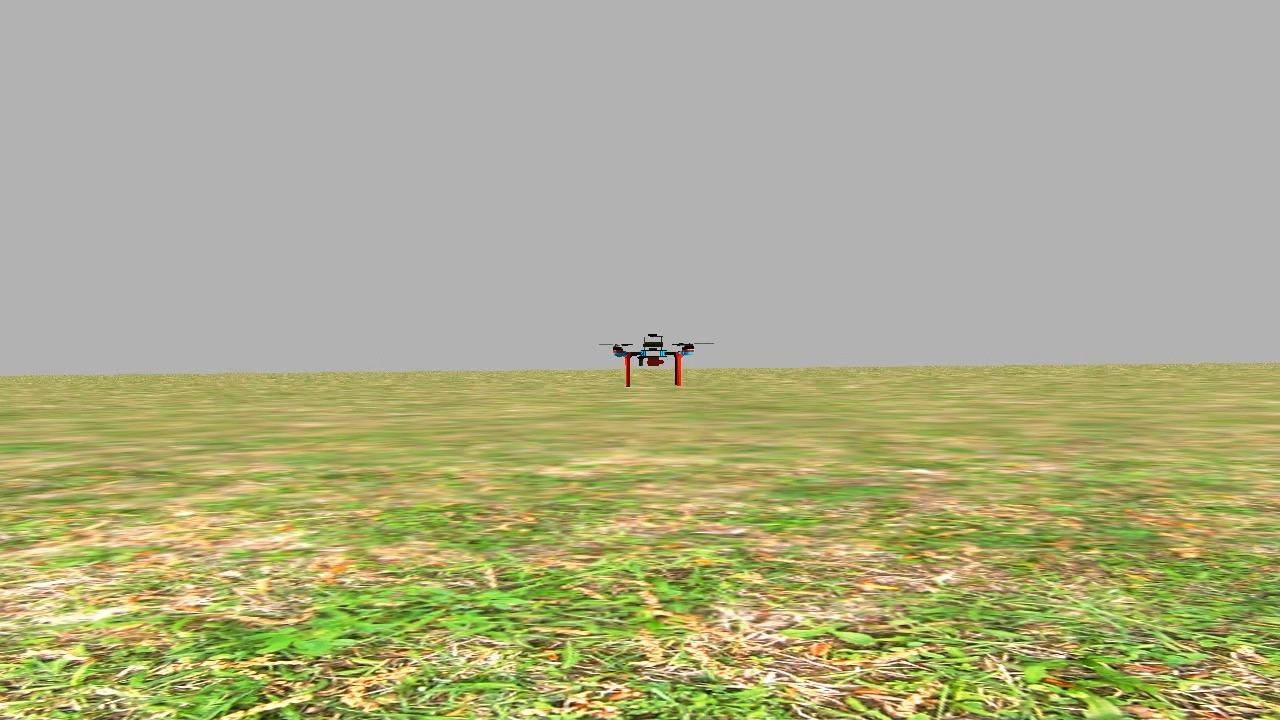UAV: (600, 327, 694, 383)
